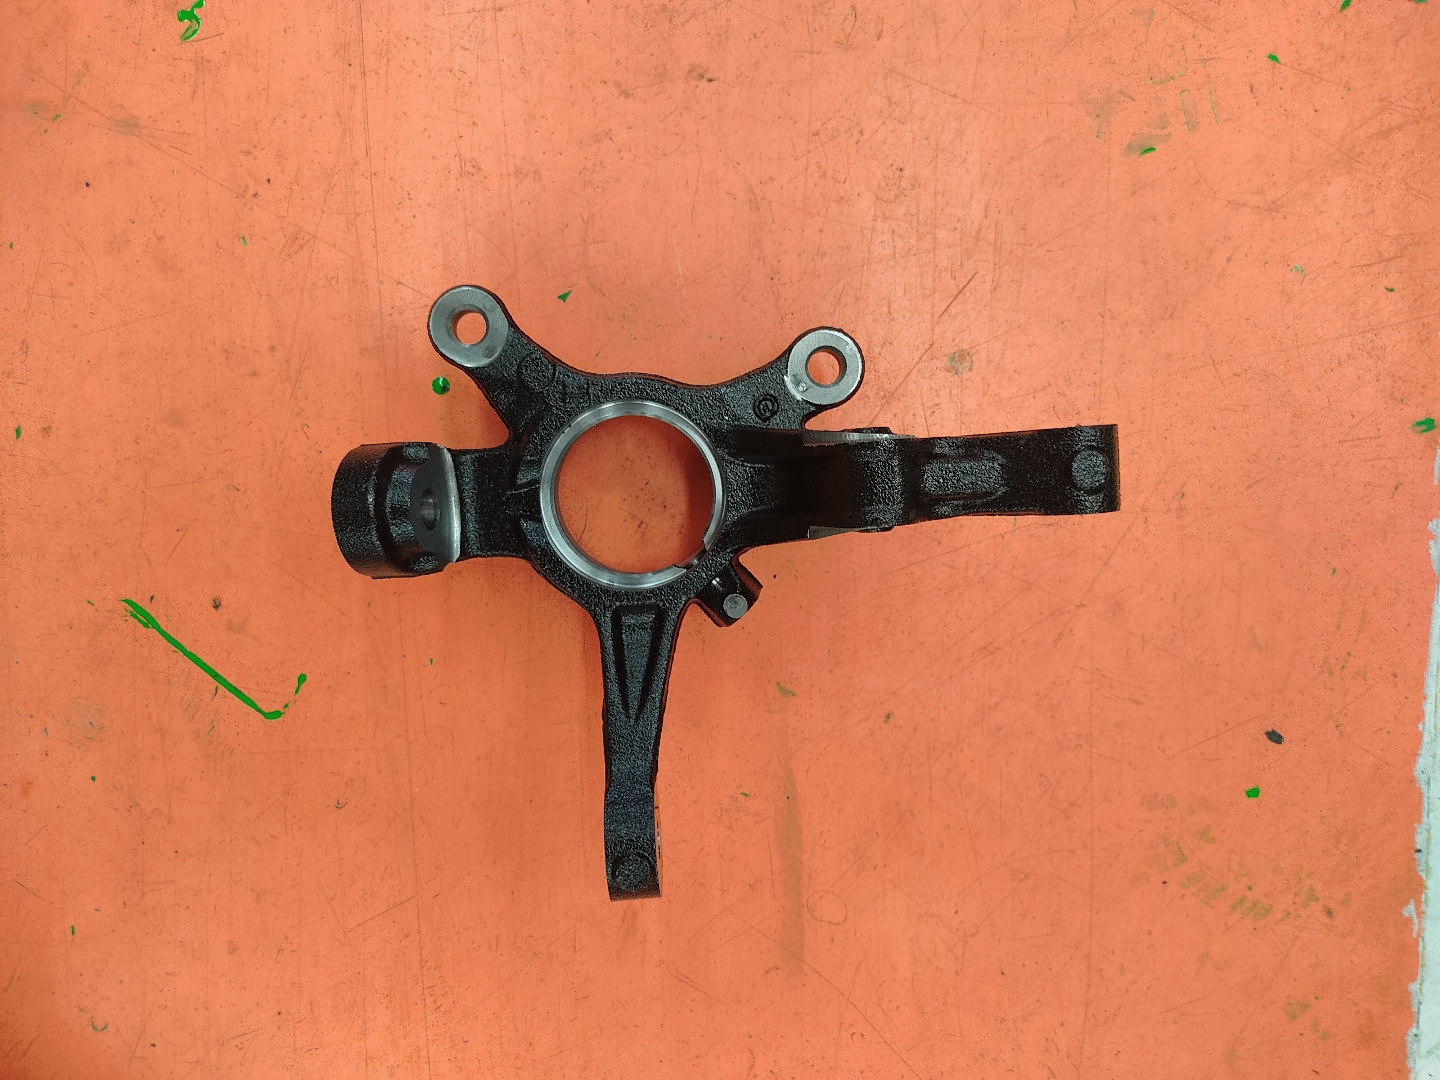abs-rh: (316, 260, 1138, 916)
